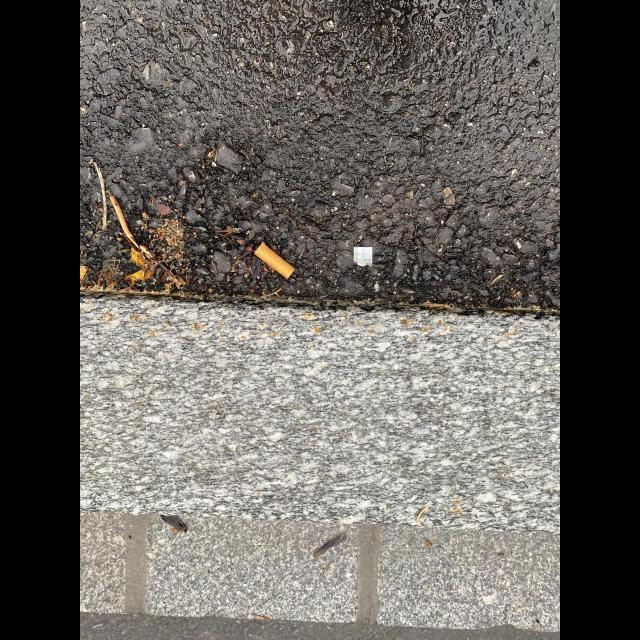cigarette: (254, 242, 295, 280)
